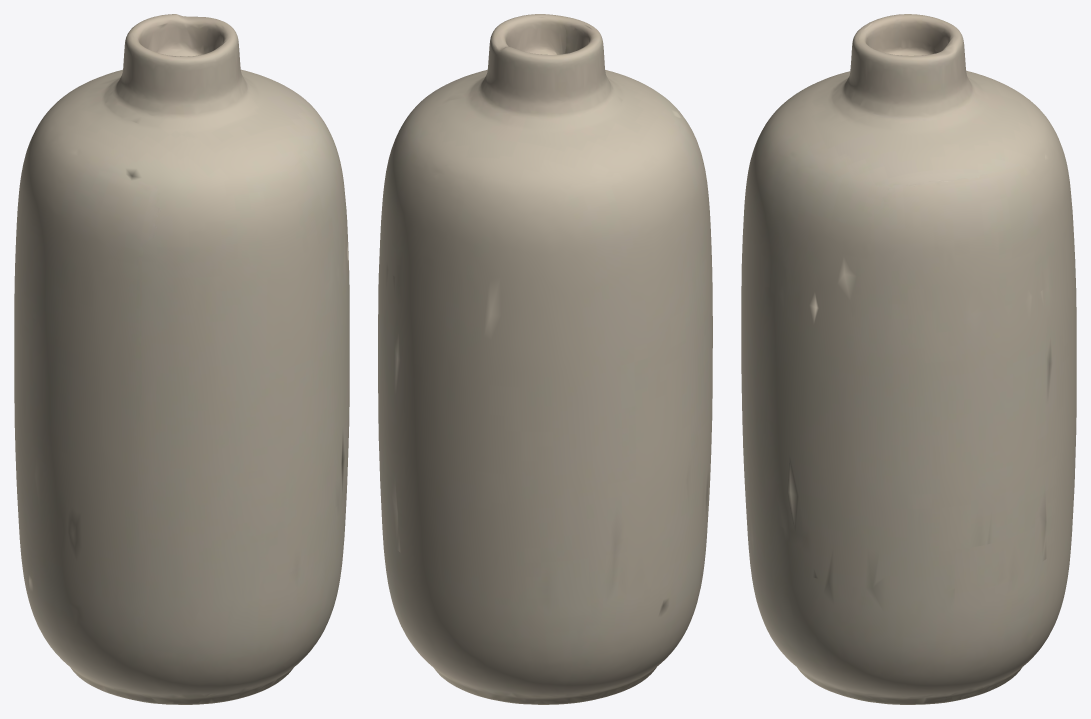
The picture shows the model from 3 angles, left to right: view 1: azimuth 30°, elevation 25°; view 2: azimuth 150°, elevation 25°; view 3: azimuth 270°, elevation 25°; orthographic projection.
Visible parts, largest first — view 1: material; view 2: material; view 3: material.
Part boxes in pixels (<box>): material: <box>14,14,349,704</box>; material: <box>378,14,712,704</box>; material: <box>741,14,1076,704</box>.
Size of the model in its own units: 0.5568 by 1.14 by 0.5578.
Materials: 1 (1 with a texture image).
